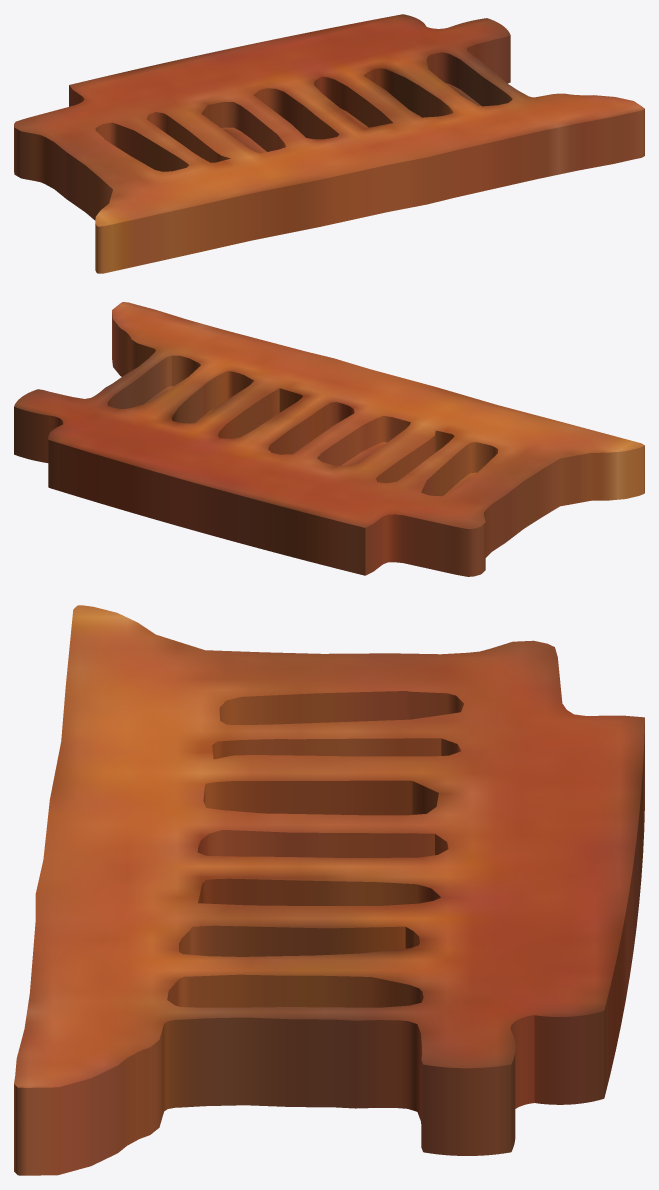
Rendered from Panama 2.dae.
3 renders of one model, top to bottom at view 1: azimuth 30°, elevation 25°; view 2: azimuth 150°, elevation 25°; view 3: azimuth 270°, elevation 25°, orthographic. The views are drawn at different scales.
Parts seen in each view (by area): view 1: SketchUp (×8); view 2: SketchUp (×8); view 3: SketchUp (×8).
Part boxes in pixels (x1=…): SketchUp (×8): x1=14, y1=14, x2=644, y2=273; SketchUp (×8): x1=14, y1=302, x2=644, y2=576; SketchUp (×8): x1=14, y1=605, x2=644, y2=1175.
Size of the model in its own units: 8.1 by 4.48 by 0.6875.
Materials: 1 (1 with a texture image).
